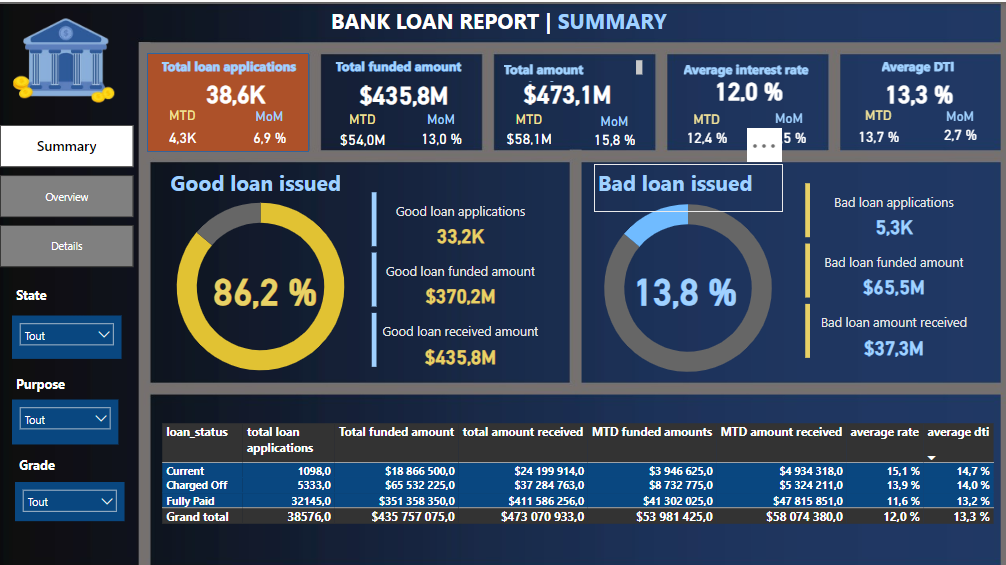

What the dashboard file says about the page in this screenshot:
{"tool":"powerbi","page":{"name":"Summary","canvas":[1280,720],"ordinal":0},"visuals":[{"type":"shape","box":[196.5,64.3,204.1,124.7],"z":0,"group":"g5"},{"type":"group","id":"g1","title":"Group 1","box":[429,64.3,185.2,126.6],"z":0},{"type":"group","id":"g2","title":"Group 2","box":[627.4,67.6,206,121.4],"z":1000},{"type":"card","title":"MTD","fields":{"Values":["financial_loan.mtd loan applications"]},"box":[196.5,132.3,88.8,58.6],"z":1000,"group":"g5"},{"type":"group","id":"g3","title":"Group 3","box":[858,67.6,194.6,119.3],"z":2000},{"type":"card","title":"Total loan applications","fields":{"Values":["financial_loan.total loan applications"]},"box":[224.8,79.4,166.3,69.9],"z":2000,"group":"g5"},{"type":"group","id":"g4","title":"Group 4","box":[1065.8,64.3,213.5,124.7],"z":3000},{"type":"card","fields":{"Values":["financial_loan.Total funded amount"]},"box":[449.8,88.9,139.8,52.9],"z":3000,"group":"g1"},{"type":"card","title":"MoM","fields":{"Values":["financial_loan.MoM loan applications"]},"box":[302.3,134.2,96.4,54.8],"z":3000,"group":"g5"},{"type":"group","id":"g5","title":"Group 5","box":[196.5,64.3,204.1,126.6],"z":4000},{"type":"textbox","box":[209.7,64.3,189,41.6],"z":4000,"group":"g5"},{"type":"card","title":"MTD","fields":{"Values":["financial_loan.MTD funded amounts"]},"box":[429,138,77.5,52.9],"z":4000,"group":"g1"},{"type":"textbox","box":[423.3,0,510.2,49.1],"z":5000},{"type":"card","title":"MoM","fields":{"Values":["financial_loan.MoM funded applications"]},"box":[519.7,138,94.5,49.1],"z":5000,"group":"g1"},{"type":"card","title":"MTD","fields":{"Values":["financial_loan.MTD amount received"]},"box":[627.4,138,100.2,43.5],"z":6000,"group":"g2"},{"type":"donutChart","fields":{"Category":["financial_loan.Good vs Bad loans"],"Y":["financial_loan.total loan applications"]},"box":[185.2,221.1,308,274],"z":6000},{"type":"card","fields":{"Values":["financial_loan.total amount received"]},"box":[650.1,85.1,151.2,58.6],"z":7000,"group":"g2"},{"type":"donutChart","fields":{"Category":["financial_loan.Good vs Bad loans"],"Y":["financial_loan.total loan applications"]},"box":[735.1,223,285.4,274],"z":7000},{"type":"card","title":"MoM","fields":{"Values":["financial_loan.MoM amount received"]},"box":[737,139.9,96.4,49.1],"z":8000,"group":"g2"},{"type":"card","fields":{"Values":["financial_loan.Good loan %"]},"box":[260.8,285.4,168.2,149.3],"z":8000},{"type":"card","fields":{"Values":["financial_loan.average int_rate"]},"box":[878.8,90.8,151.2,39.7],"z":9000,"group":"g3"},{"type":"textbox","box":[221.1,204.1,238.1,60.5],"z":9000},{"type":"card","title":"MTD","fields":{"Values":["financial_loan.MTD average rate"]},"box":[858,138,86.9,47.2],"z":10000,"group":"g3"},{"type":"textbox","box":[759.7,204.1,238.1,60.5],"z":10000},{"type":"card","title":"MoM","fields":{"Values":["financial_loan.MoM average rate"]},"box":[958.2,135.9,94.5,51],"z":11000,"group":"g3"},{"type":"card","fields":{"Values":["financial_loan.Bad loan %"]},"box":[786.1,285.4,175.7,149.3],"z":11000},{"type":"card","fields":{"Values":["financial_loan.average dti"]},"box":[1094.1,90.8,149.3,47.2],"z":12000,"group":"g4"},{"type":"cardVisual","fields":{"Data":["financial_loan.Good loan applications","financial_loan.Good loan funded amount","financial_loan.Good loan received amount"]},"box":[474.3,234.3,234.3,230.6],"z":12000},{"type":"card","title":"MTD","fields":{"Values":["financial_loan.MTD dti"]},"box":[1065.8,132.3,103.9,56.7],"z":13000,"group":"g4"},{"type":"cardVisual","fields":{"Data":["financial_loan.Bad loan applications","financial_loan.Bad loan funded amount","financial_loan.Bad loan amount received"]},"box":[1020.5,223,234.3,230.6],"z":13000},{"type":"card","title":"MoM","fields":{"Values":["financial_loan.MoM average dti"]},"box":[1162.2,134.2,117.2,47.2],"z":14000,"group":"g4"},{"type":"tableEx","fields":{"Values":["financial_loan.loan_status","financial_loan.total loan applications","financial_loan.Total funded amount","financial_loan.total amount received","financial_loan.MTD funded amounts","financial_loan.MTD amount received","financial_loan.average rate","financial_loan.average dti"]},"box":[209.8,525.4,1069.6,141.7],"z":14000},{"type":"textbox","box":[429,64.3,185.2,41.6],"z":14002,"group":"g1"},{"type":"textbox","box":[639.9,67.6,185.2,37.8],"z":14003,"group":"g2"},{"type":"textbox","box":[867.5,67.6,181.4,37.8],"z":14004,"group":"g3"},{"type":"textbox","box":[1116.8,64.3,126.6,41.6],"z":14005,"group":"g4"},{"type":"slicer","fields":{"Values":["financial_loan.address_state"]},"box":[26.5,395,138,54.8],"z":15000},{"type":"slicer","fields":{"Values":["financial_loan.grade"]},"box":[30.2,604.7,138,49.1],"z":16000},{"type":"slicer","fields":{"Values":["financial_loan.purpose"]},"box":[26.5,500.8,134.2,56.7],"z":17000},{"type":"textbox","box":[26.5,353.4,73.7,41.6],"z":18000},{"type":"textbox","box":[26.5,464.9,73.7,49.1],"z":19000},{"type":"textbox","box":[30.2,566.9,73.7,37.8],"z":20000},{"type":"pageNavigator","box":[11.3,155,168.2,181.4],"z":21000},{"type":"image","box":[22.7,11.3,138,124.7],"z":21001}]}

Visuals, with their boxes in screenshot pixels (x1, y1, x2, y2), scaled from the page's 1280x720 canvas onto the 1006x565 screenshot:
shape: pyautogui.locateOnScreen(154, 50, 315, 148)
"Group 1" group: pyautogui.locateOnScreen(337, 50, 483, 150)
"Group 2" group: pyautogui.locateOnScreen(493, 53, 655, 148)
"MTD" card: pyautogui.locateOnScreen(154, 104, 224, 150)
"Group 3" group: pyautogui.locateOnScreen(674, 53, 827, 147)
"Total loan applications" card: pyautogui.locateOnScreen(177, 62, 307, 117)
"Group 4" group: pyautogui.locateOnScreen(838, 50, 1005, 148)
card - financial_loan.Total funded amount: pyautogui.locateOnScreen(354, 70, 463, 111)
"MoM" card: pyautogui.locateOnScreen(238, 105, 313, 148)
"Group 5" group: pyautogui.locateOnScreen(154, 50, 315, 150)
textbox: pyautogui.locateOnScreen(165, 50, 313, 83)
"MTD" card: pyautogui.locateOnScreen(337, 108, 398, 150)
textbox: pyautogui.locateOnScreen(333, 0, 734, 39)
"MoM" card: pyautogui.locateOnScreen(408, 108, 483, 147)
"MTD" card: pyautogui.locateOnScreen(493, 108, 572, 142)
donutChart - financial_loan.Good vs Bad loans x financial_loan.total loan applications: pyautogui.locateOnScreen(146, 174, 388, 389)
card - financial_loan.total amount received: pyautogui.locateOnScreen(511, 67, 630, 113)
donutChart - financial_loan.Good vs Bad loans x financial_loan.total loan applications: pyautogui.locateOnScreen(578, 175, 802, 390)
"MoM" card: pyautogui.locateOnScreen(579, 110, 655, 148)
card - financial_loan.Good loan %: pyautogui.locateOnScreen(205, 224, 337, 341)
card - financial_loan.average int_rate: pyautogui.locateOnScreen(691, 71, 810, 102)
textbox: pyautogui.locateOnScreen(174, 160, 361, 208)
"MTD" card: pyautogui.locateOnScreen(674, 108, 743, 145)
textbox: pyautogui.locateOnScreen(597, 160, 784, 208)
"MoM" card: pyautogui.locateOnScreen(753, 107, 827, 147)
card - financial_loan.Bad loan %: pyautogui.locateOnScreen(618, 224, 756, 341)
card - financial_loan.average dti: pyautogui.locateOnScreen(860, 71, 977, 108)
cardVisual - financial_loan.Good loan applications x financial_loan.Good loan funded amount: pyautogui.locateOnScreen(373, 184, 557, 365)
"MTD" card: pyautogui.locateOnScreen(838, 104, 919, 148)
cardVisual - financial_loan.Bad loan applications x financial_loan.Bad loan funded amount: pyautogui.locateOnScreen(802, 175, 986, 356)
"MoM" card: pyautogui.locateOnScreen(913, 105, 1005, 142)
tableEx - financial_loan.loan_status x financial_loan.total loan applications: pyautogui.locateOnScreen(165, 412, 1005, 523)
textbox: pyautogui.locateOnScreen(337, 50, 483, 83)
textbox: pyautogui.locateOnScreen(503, 53, 648, 83)
textbox: pyautogui.locateOnScreen(682, 53, 824, 83)
textbox: pyautogui.locateOnScreen(878, 50, 977, 83)
slicer - financial_loan.address_state: pyautogui.locateOnScreen(21, 310, 129, 353)
slicer - financial_loan.grade: pyautogui.locateOnScreen(24, 475, 132, 513)
slicer - financial_loan.purpose: pyautogui.locateOnScreen(21, 393, 126, 437)
textbox: pyautogui.locateOnScreen(21, 277, 79, 310)
textbox: pyautogui.locateOnScreen(21, 365, 79, 403)
textbox: pyautogui.locateOnScreen(24, 445, 82, 475)
pageNavigator: pyautogui.locateOnScreen(9, 122, 141, 264)
image: pyautogui.locateOnScreen(18, 9, 126, 107)
